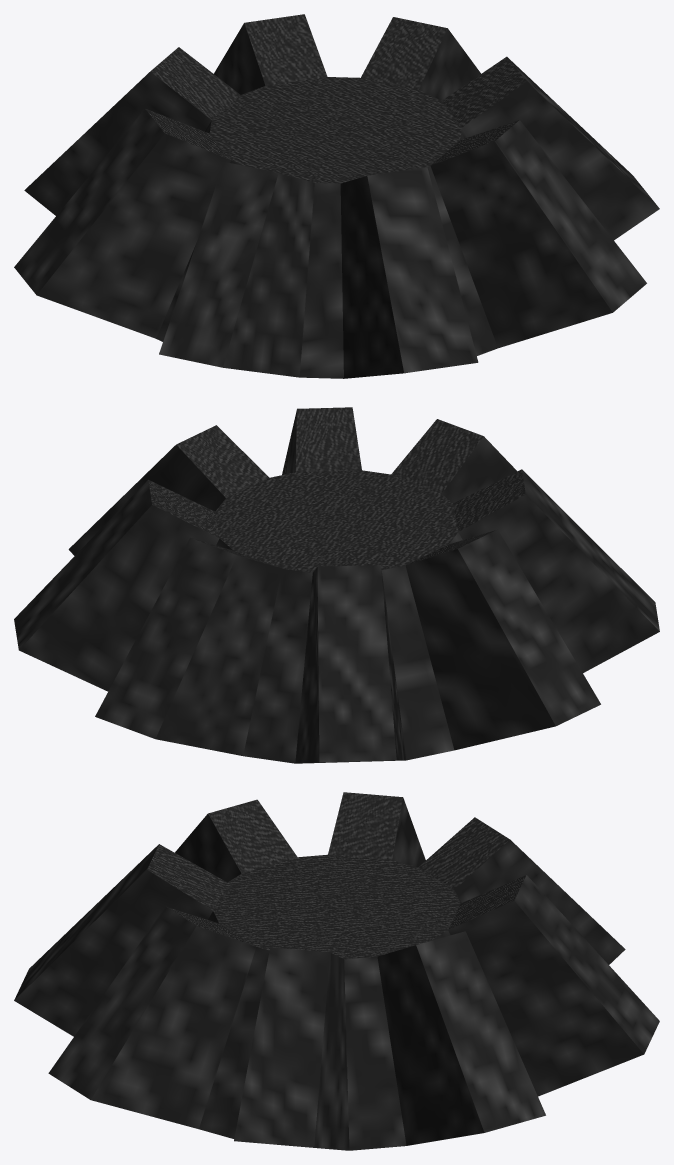
The model's file is DiskGears.fbx.
3 renders of one model, top to bottom at view 1: azimuth 30°, elevation 25°; view 2: azimuth 150°, elevation 25°; view 3: azimuth 270°, elevation 25°, orthographic. The views are drawn at different scales.
Visible parts, largest first — view 1: DiskGears; view 2: DiskGears; view 3: DiskGears.
Part boxes in pixels (left/top/right/bottom): DiskGears: left=14, top=14, right=659, bottom=378; DiskGears: left=14, top=407, right=659, bottom=763; DiskGears: left=14, top=792, right=659, bottom=1150.
Bounding box in the file's own units: 41.44 × 13.36 × 41.48.
